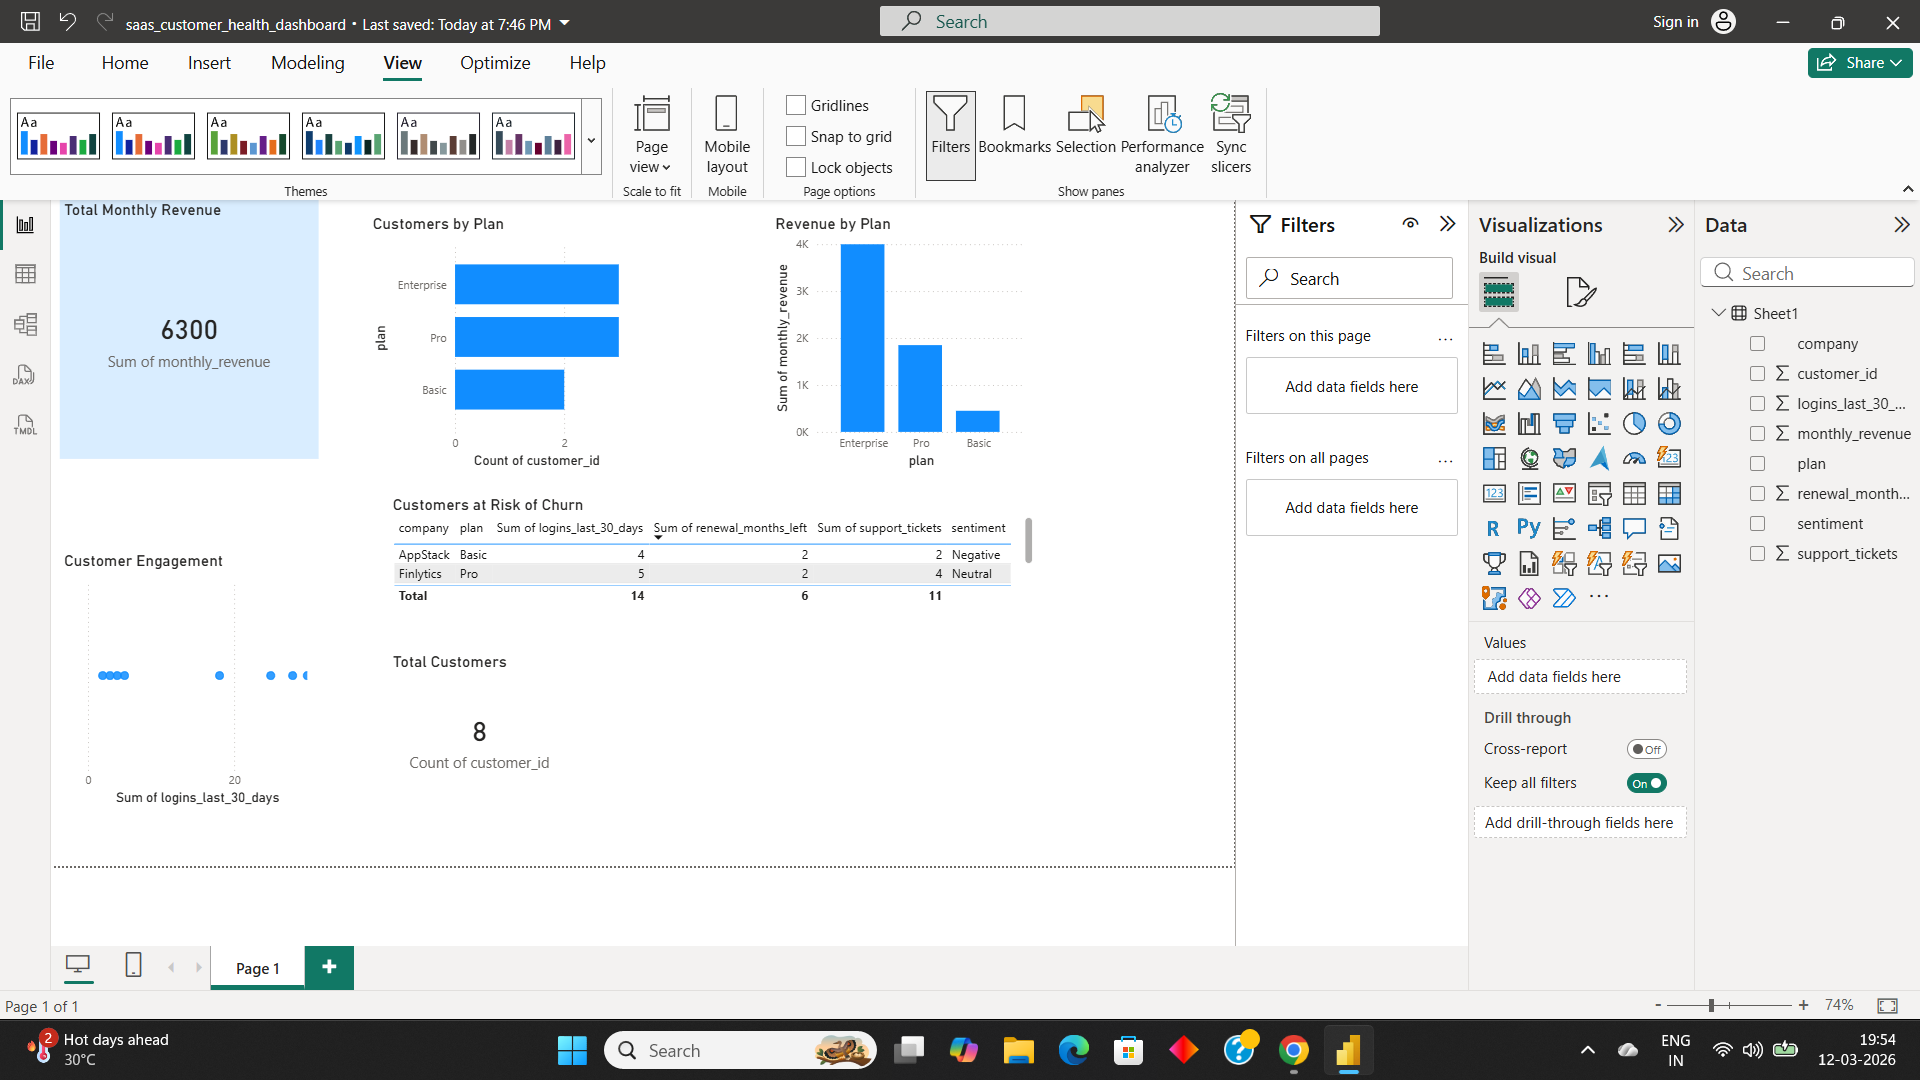

This screenshot's page, from the dashboard's own definition file:
{"tool":"powerbi","page":{"name":"Page 1","canvas":[1280,720],"ordinal":0},"visuals":[{"type":"card","title":"Total Monthly Revenue","fields":{"Values":["Sum(Sheet1.monthly_revenue)"]},"box":[10,0,280,280],"z":0},{"type":"barChart","title":"Customers by Plan","fields":{"Category":["Sheet1.plan"],"Y":["CountNonNull(Sheet1.customer_id)"]},"box":[343.1,15.1,279.9,279.9],"z":1000},{"type":"clusteredColumnChart","title":"Revenue by Plan","fields":{"Category":["Sheet1.plan"],"Y":["Sum(Sheet1.monthly_revenue)"]},"box":[778,15.1,279.9,279.9],"z":2000},{"type":"scatterChart","title":"Customer Engagement","fields":{"Category":["Sheet1.company"],"X":["Sum(Sheet1.logins_last_30_days)"]},"box":[9.6,380.1,279.9,279.9],"z":3000},{"type":"tableEx","title":"Customers at Risk of Churn","fields":{"Values":["Sheet1.company","Sheet1.plan","Sum(Sheet1.logins_last_30_days)","Sum(Sheet1.renewal_months_left)","Sum(Sheet1.support_tickets)","Sheet1.sentiment"]},"box":[365,319.1,701.6,123],"z":4000},{"type":"card","title":"Total Customers","fields":{"Values":["CountNonNull(Sheet1.customer_id)"]},"box":[365,489.4,197.4,170.3],"z":4001}]}

Visuals, with their boxes on the page's 1280x720 design canvas (x1, y1, x2, y2). These are canvas units, not pixel positions in the 1920x1080 screenshot, which may show the page scaled, cropped or inside an application window:
"Total Monthly Revenue" card: 10/0/290/280
"Customers by Plan" barChart: 343/15/623/295
"Revenue by Plan" clusteredColumnChart: 778/15/1058/295
"Customer Engagement" scatterChart: 10/380/290/660
"Customers at Risk of Churn" tableEx: 365/319/1067/442
"Total Customers" card: 365/489/562/660
